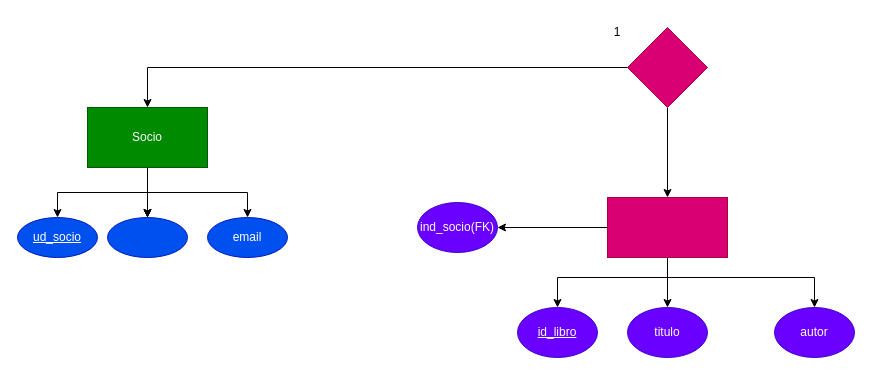
Image size: 872x375. Some labels were removed from this diagram. The box of each missing label's shape, as (x1, y1, x2, y2) in pixels:
Libro: (606, 196, 728, 258)
nombre: (106, 216, 188, 258)
Realiza: (626, 26, 708, 108)
